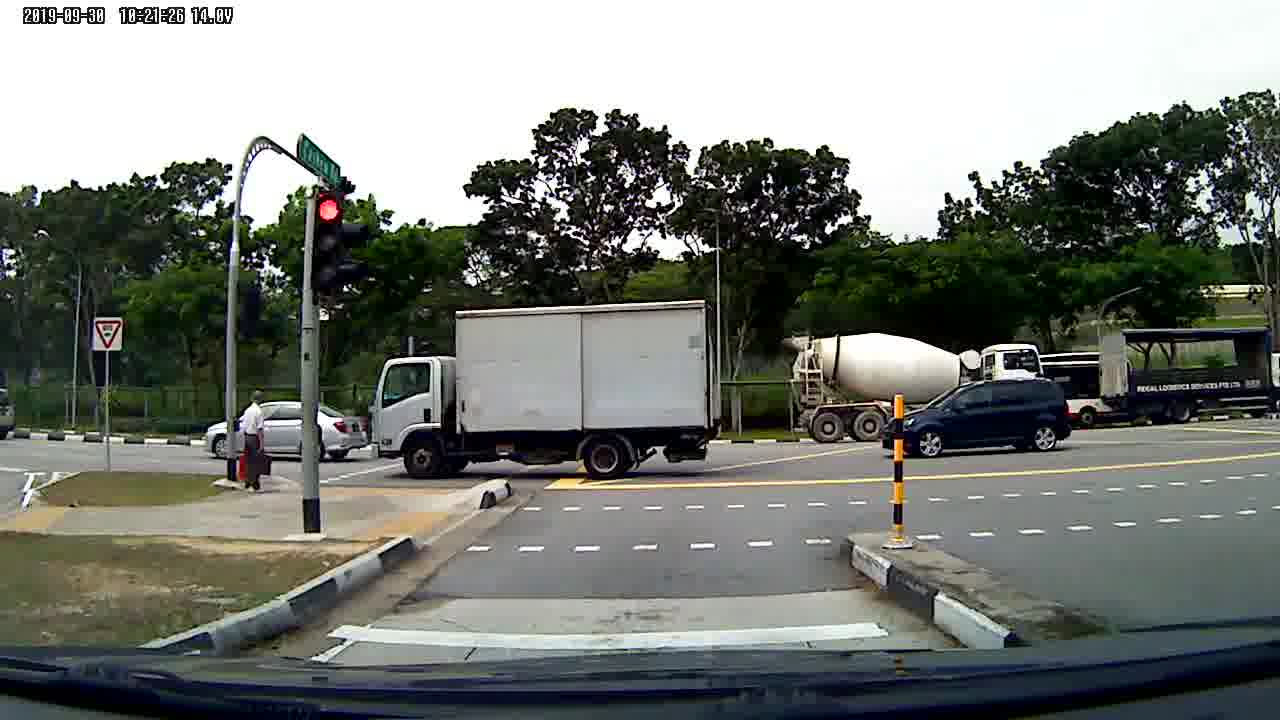car: (883, 377, 1074, 451), (207, 398, 368, 460)
